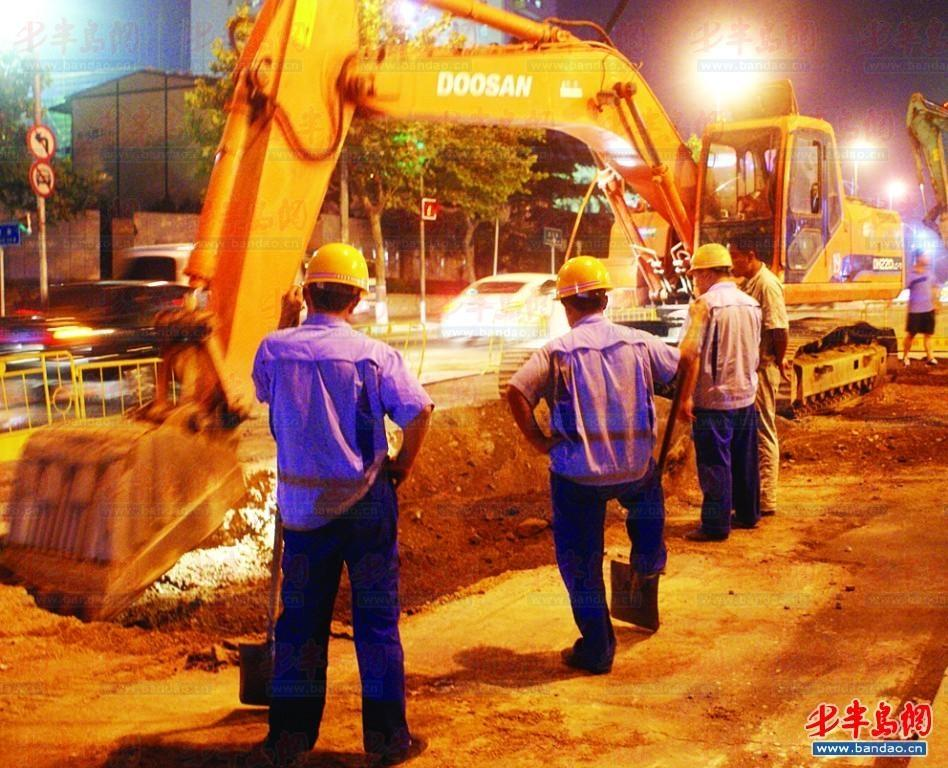Helmet: (308, 243, 370, 321), (557, 253, 611, 321)
NoVest: (268, 328, 403, 540), (553, 330, 664, 486)
